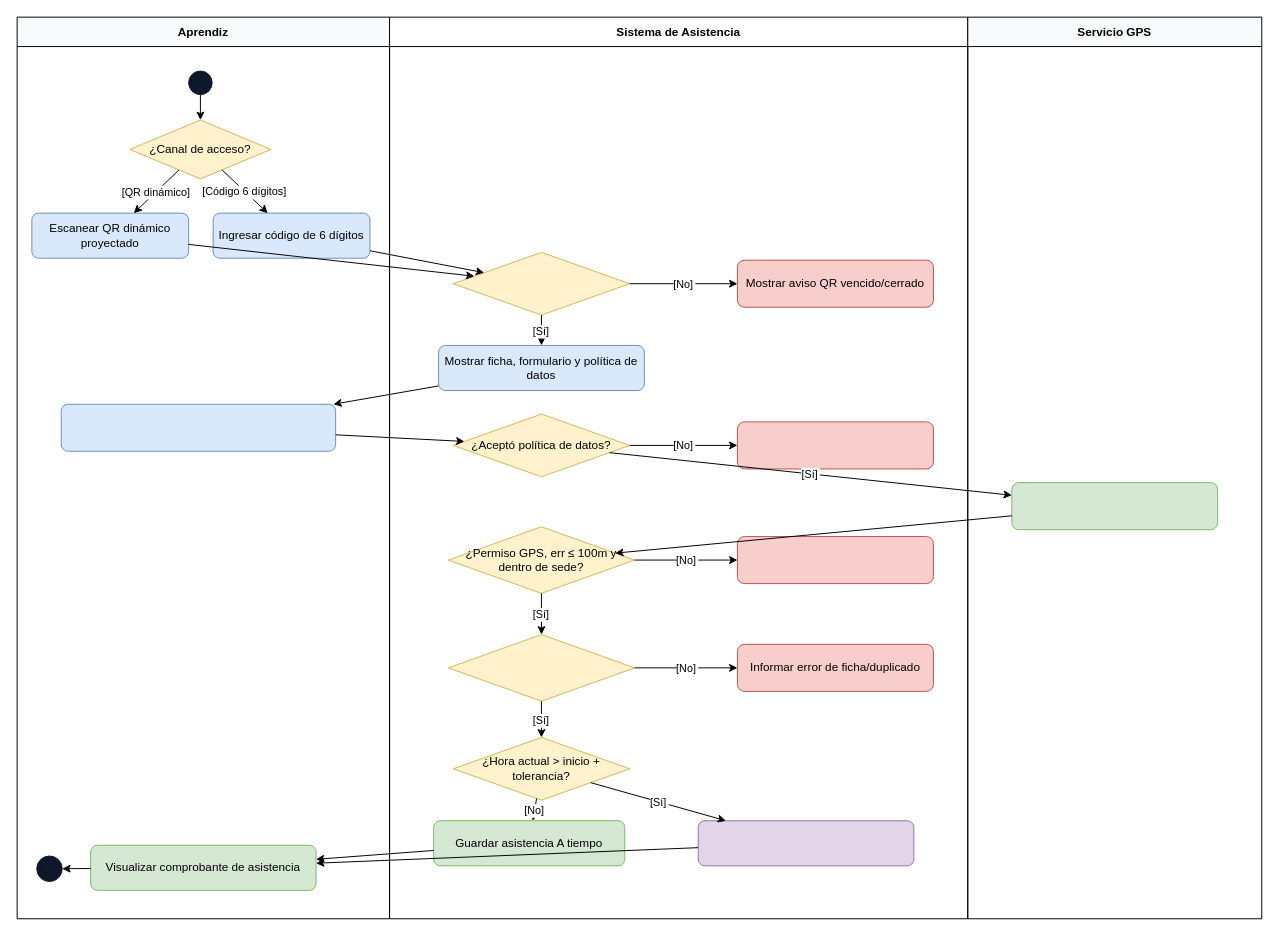
This 1279x936 diagram has some shape labels left out. Here are the shapes that lost their labels. From the top down, the box of each, then its label:
(452, 251, 630, 315): ¿Sesión activa y QR/código vigente?
(60, 403, 336, 451): Ingresar documento, aceptar datos y enviar
(736, 421, 933, 469): Bloquear envío y exigir aceptación
(1011, 482, 1218, 530): Obtener coordenadas y precisión GPS
(736, 536, 933, 584): Rechazar por GPS o geocerca
(447, 634, 635, 701): ¿Aprendiz activo, ficha correcta y sin duplicado?
(697, 820, 914, 866): Calcular tardanza (CU-09) y guardar
